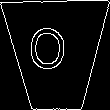O_S: (37, 29, 75, 81)
